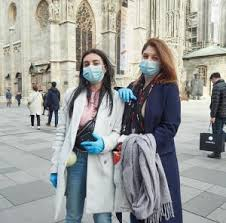with_mask: (81, 58, 107, 86), (140, 51, 164, 77)
